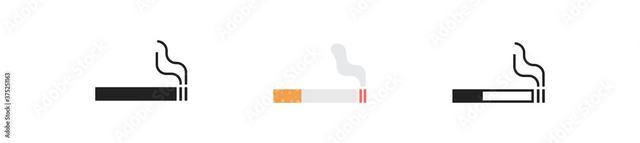Cigarette: (272, 86, 367, 102), (450, 88, 545, 104), (94, 84, 182, 100)
